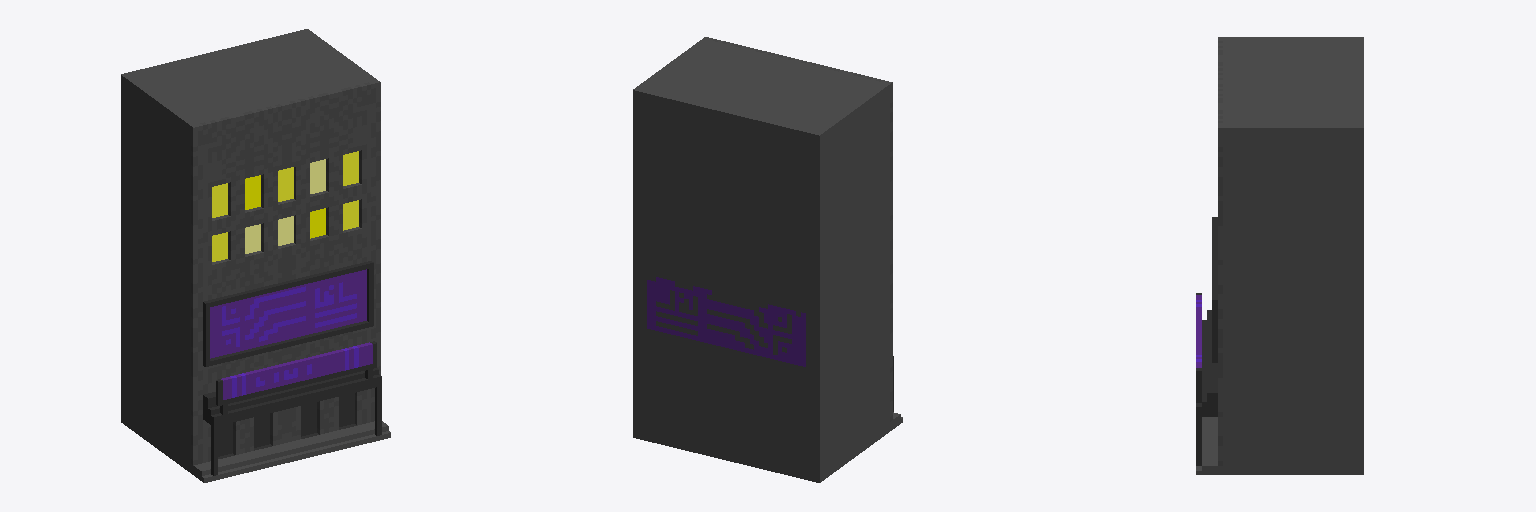
3 views of the same model, side by side, from view 1: azimuth 30°, elevation 25°; view 2: azimuth 150°, elevation 25°; view 3: azimuth 270°, elevation 25° (orthographic).
Parts seen in each view (by area): view 1: object 1; view 2: object 1; view 3: object 1.
Boxes of the visible parts, <box> form: object 1: <box>121,29,390,482</box>; object 1: <box>633,37,902,482</box>; object 1: <box>1196,37,1363,474</box>.
Bounding box in the file's own units: 4 × 7.1 × 3.1.
Materials: 1 (1 with a texture image).